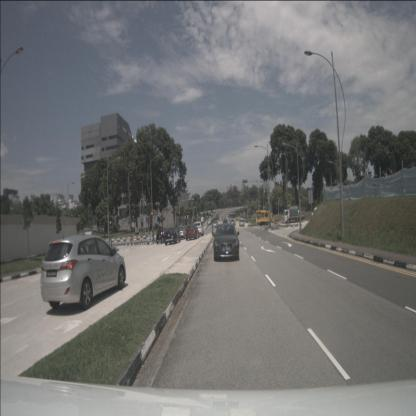vehicle-car: (40, 234, 126, 310), (214, 223, 239, 261), (164, 226, 181, 245), (156, 228, 171, 244), (186, 224, 200, 240), (193, 221, 204, 236), (176, 226, 188, 239), (222, 219, 228, 228), (212, 221, 218, 229), (240, 219, 244, 227)
vehicle-truck: (283, 206, 305, 224), (256, 210, 274, 226), (229, 212, 236, 226)
